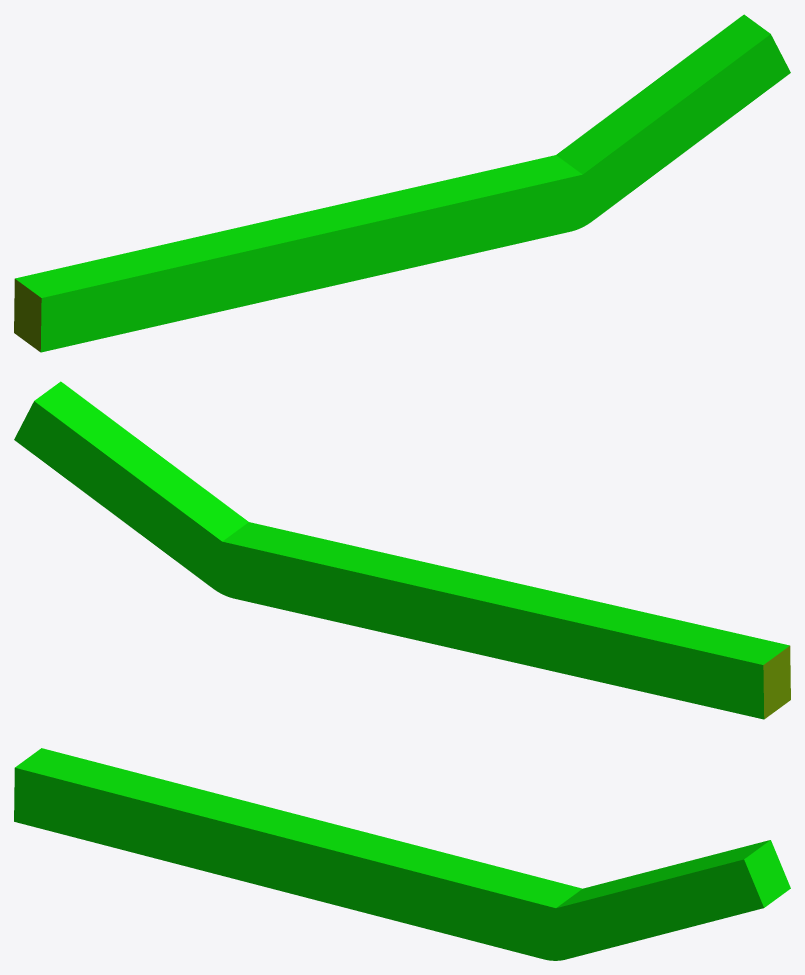
The model's file is R4_deblis3.dae.
3 renders of one model, top to bottom at view 1: azimuth 30°, elevation 25°; view 2: azimuth 150°, elevation 25°; view 3: azimuth 330°, elevation 25°, orthographic.
Visible parts, largest first — view 1: Group1; view 2: Group1; view 3: Group1.
Boxes of the visible parts, x1,y1,x2,y2 form: Group1: [14, 14, 790, 352]; Group1: [14, 381, 790, 719]; Group1: [14, 748, 790, 960].
Size of the model in its own units: 1.62 by 0.1 by 0.3066.
